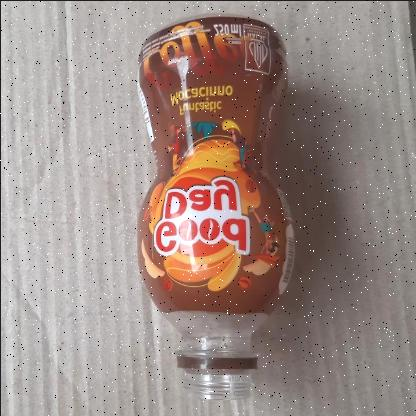Plastic Bottle: (136, 13, 292, 402)
